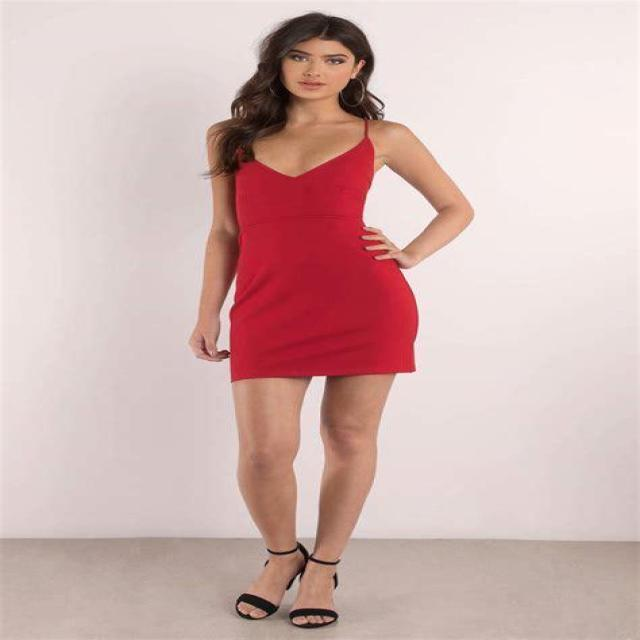dress: (227, 113, 421, 381)
